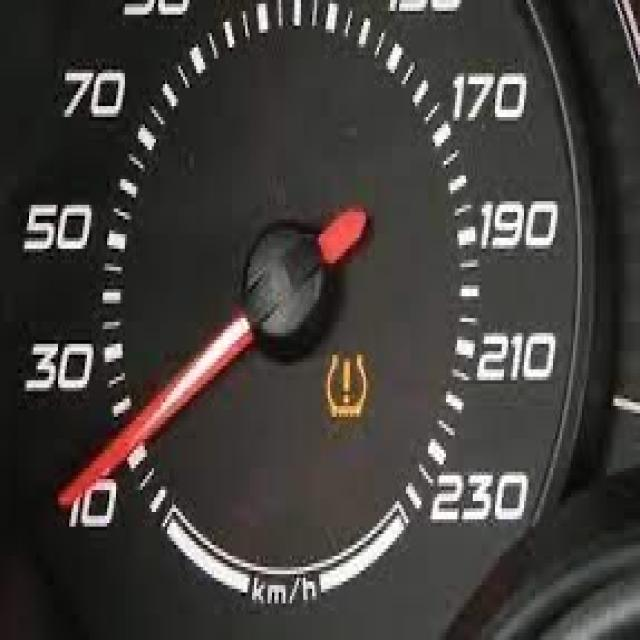kontrolka: (321, 345, 376, 430)
